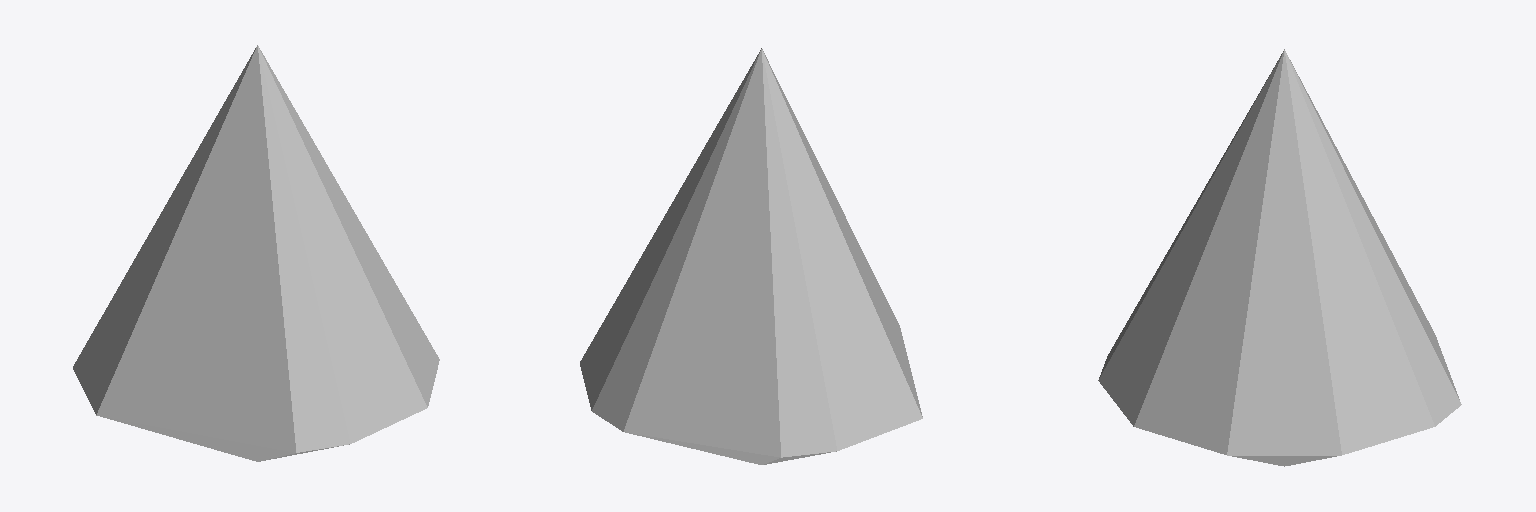
Rendered from blob.obj.
The picture shows the model from 3 angles: view 1: azimuth 30°, elevation 25°; view 2: azimuth 150°, elevation 25°; view 3: azimuth 270°, elevation 25°; orthographic projection.
Bounding box in the file's own units: 1.58 × 2 × 1.58.